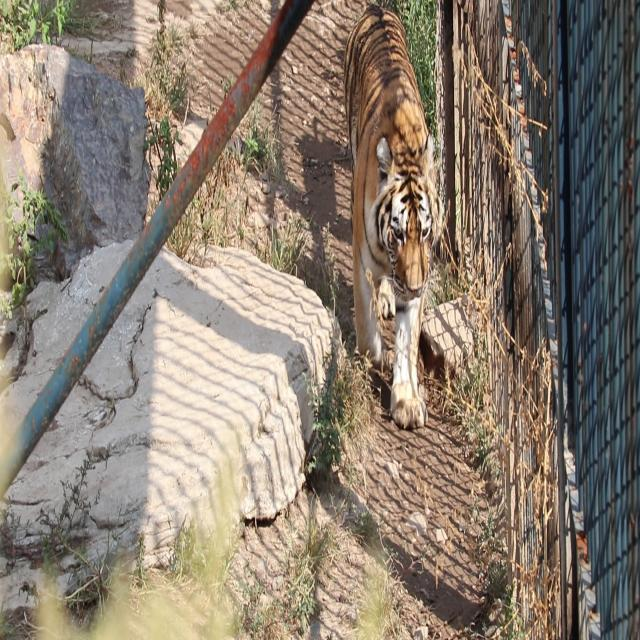Tiger: (331, 7, 477, 442)
